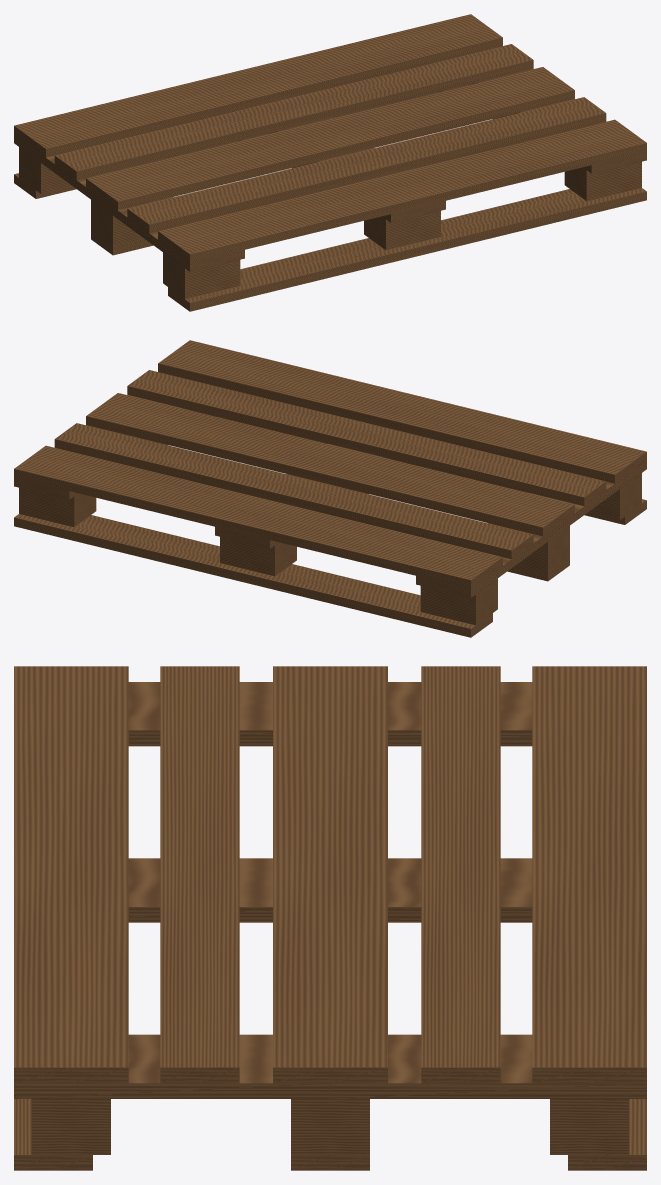
The model's file is pallet_L2.glb.
The picture shows the model from 3 angles, top to bottom: view 1: azimuth 30°, elevation 25°; view 2: azimuth 150°, elevation 25°; view 3: azimuth 270°, elevation 25°; orthographic projection. The views are drawn at different scales.
Parts seen in each view (by area): view 1: pallet:plank; view 2: pallet:plank; view 3: pallet:plank.
Part boxes in pixels (x1,y1,x2,y2): pallet:plank: [14, 14, 646, 311]; pallet:plank: [14, 340, 646, 637]; pallet:plank: [14, 666, 646, 1170].
Bounding box in the file's own units: 1.2 × 0.144 × 0.8.
1 material, 1 textured.
